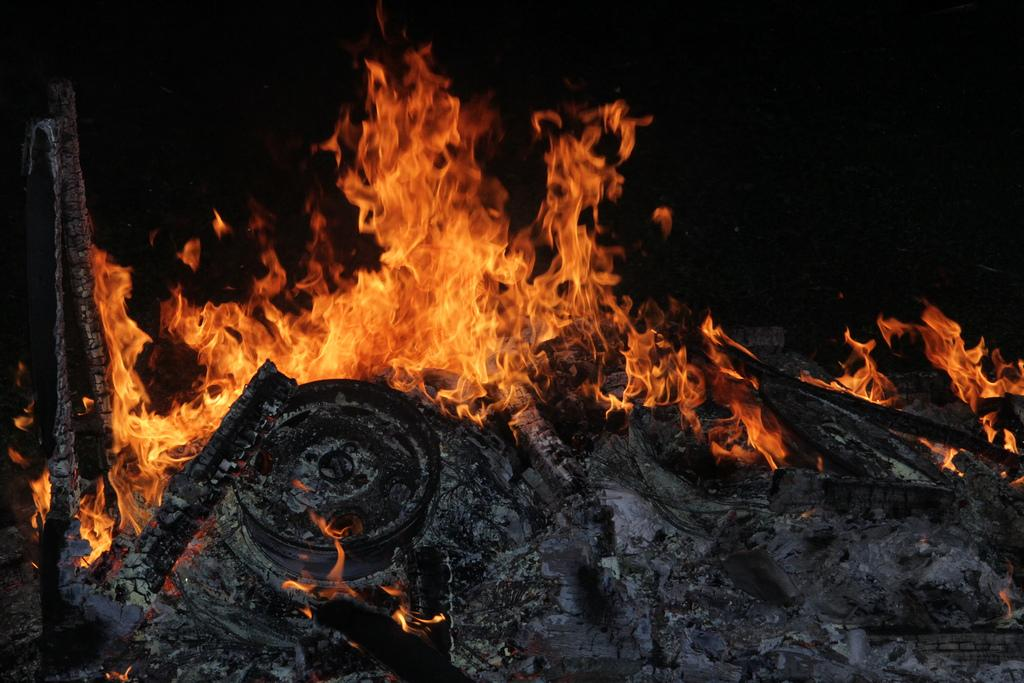fire: (355, 85, 507, 372), (147, 303, 313, 368), (550, 113, 612, 267)
